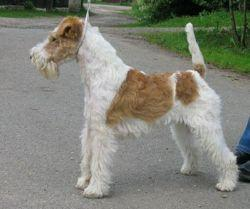wire-haired_fox_terrier: (28, 17, 240, 199)
